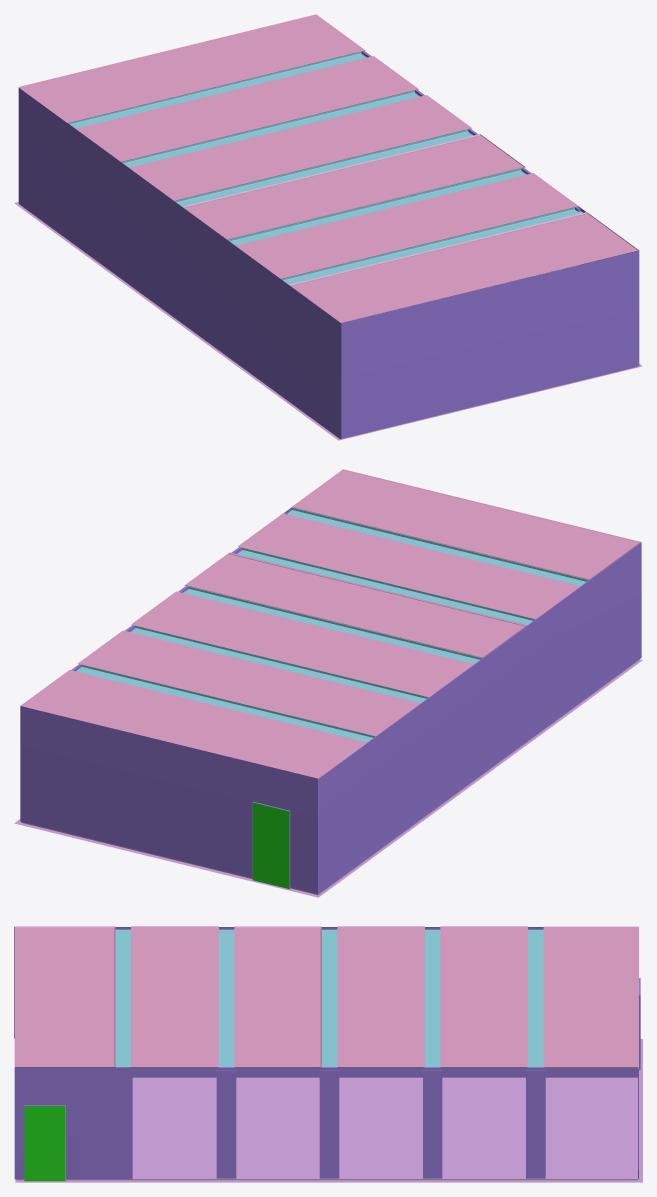
File: sens_roomB.fbx
The picture shows the model from 3 angles, top to bottom: view 1: azimuth 30°, elevation 25°; view 2: azimuth 150°, elevation 25°; view 3: azimuth 270°, elevation 25°; orthographic projection. The views are drawn at different scales.
Visible parts, largest first — view 1: sens_roomB; view 2: sens_roomB; view 3: sens_roomB.
Part boxes in pixels (x1=…): sens_roomB: x1=14, y1=14, x2=642, y2=440; sens_roomB: x1=14, y1=469, x2=642, y2=897; sens_roomB: x1=14, y1=926, x2=642, y2=1182.
Size of the model in its own units: 817 by 302 by 1511.
